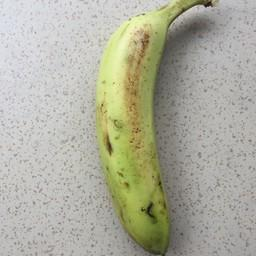Banana Ripe: (85, 4, 209, 256)
